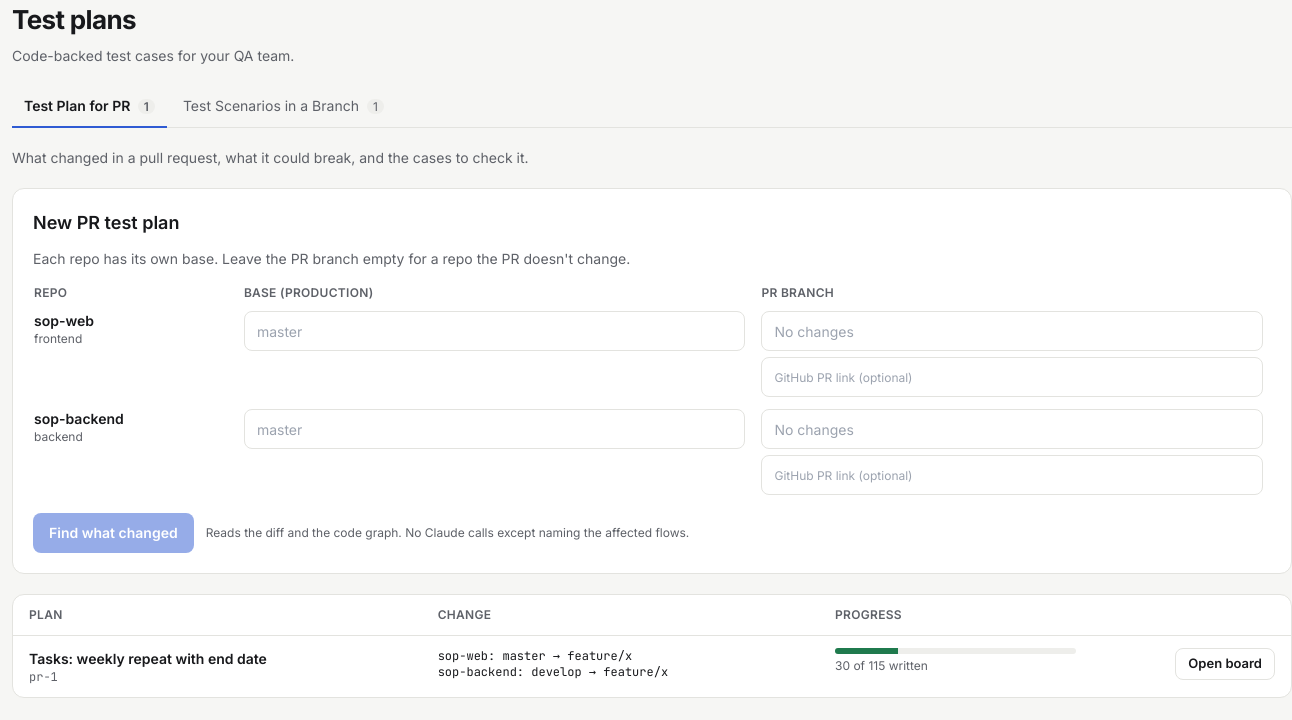
Scenario: tabs_switch_lists
Check: the text "Tasks: weekly repeat with end date" is shown, box [29,650,267,667]
Check: the text "Admin schedules a repeating task" is not shown
Click the tab "Test Scenarios in a Branch 1" at (283, 107), box [171,86,396,128]
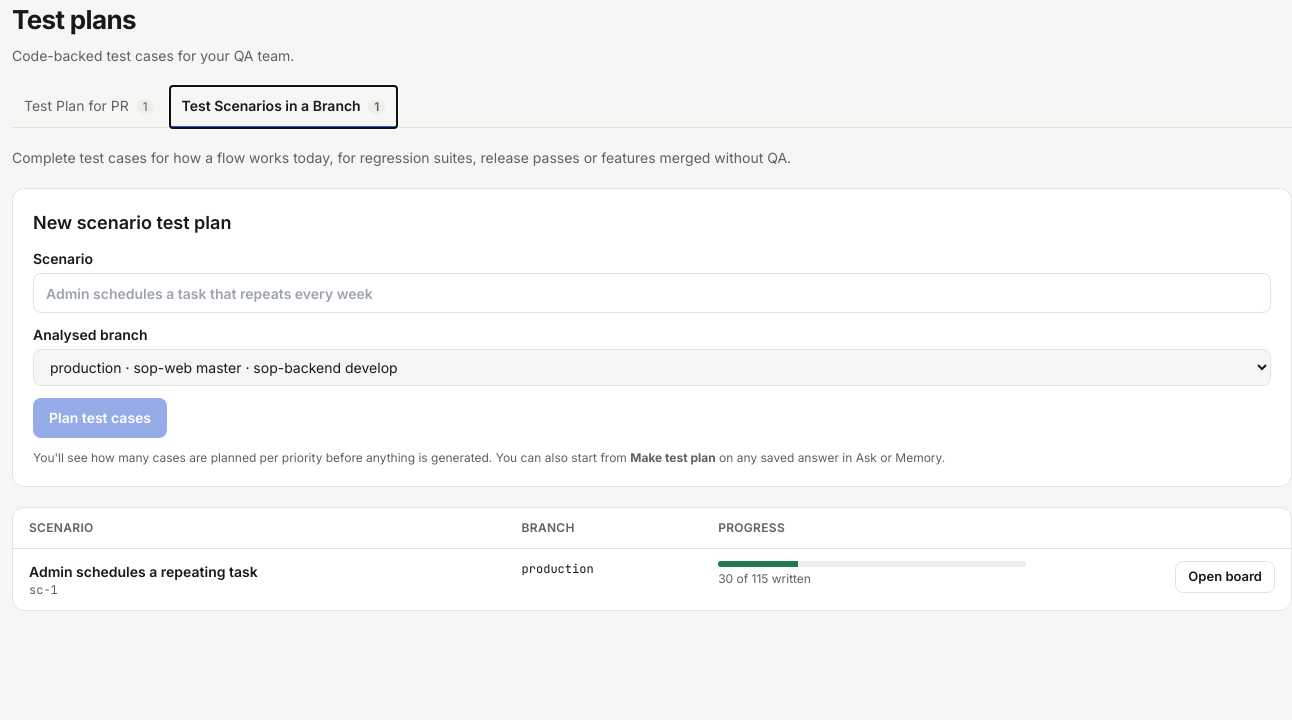
Check: the text "Admin schedules a repeating task" is shown, box [29,563,258,580]
Check: the text "Tasks: weekly repeat with end date" is gone
